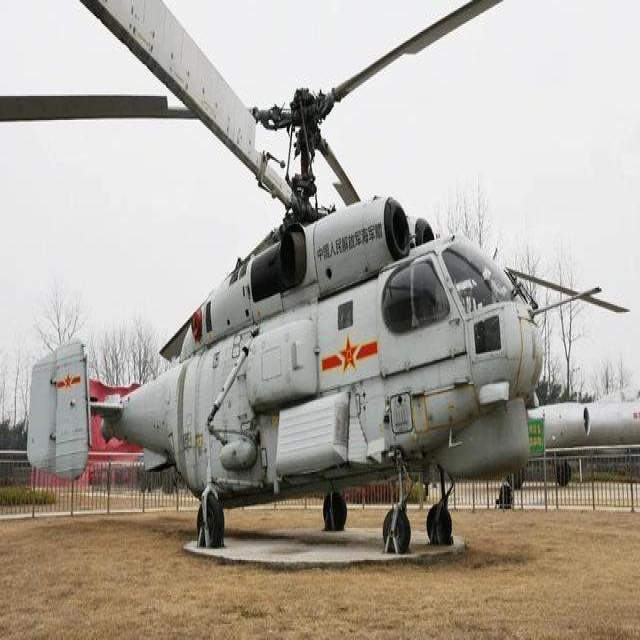MIL_HELO: (23, 9, 589, 572)
